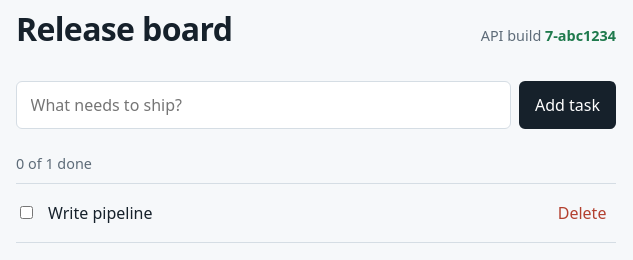
Test: App › deletes a task
Expected: the text "Write pipeline" is shown, [48, 201, 152, 225]
Click the button with aria-label "Delete Write pipeline". click: (582, 213)
box: [548, 196, 616, 230]
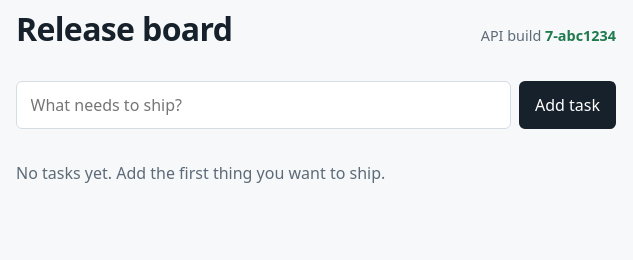
Result: the text "Write pipeline" is gone
Result: the text "No tasks yet. Add the first thing you want to ship." is shown at [16, 162, 385, 184]
